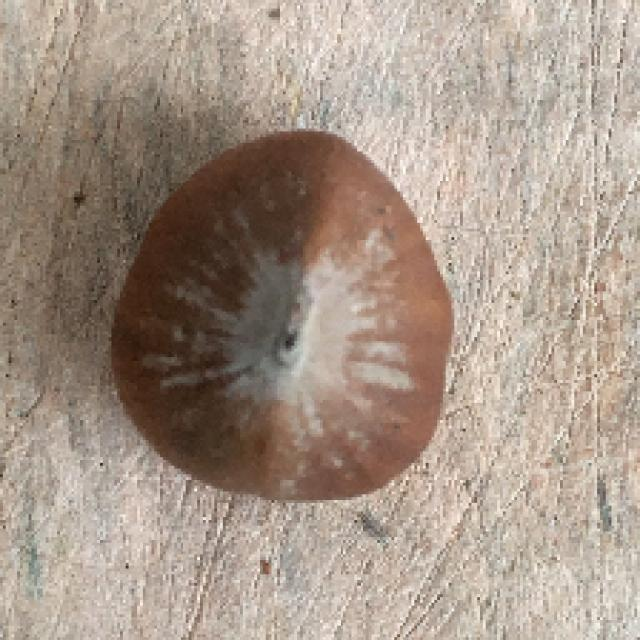qualityHazelnut: (114, 124, 460, 506)
